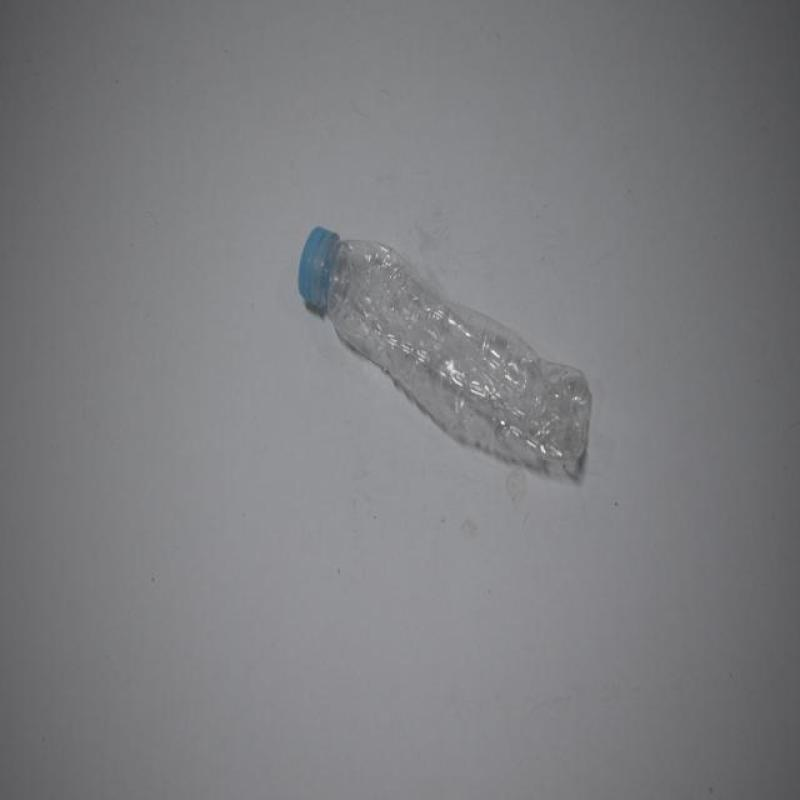botella: (299, 228, 592, 477)
